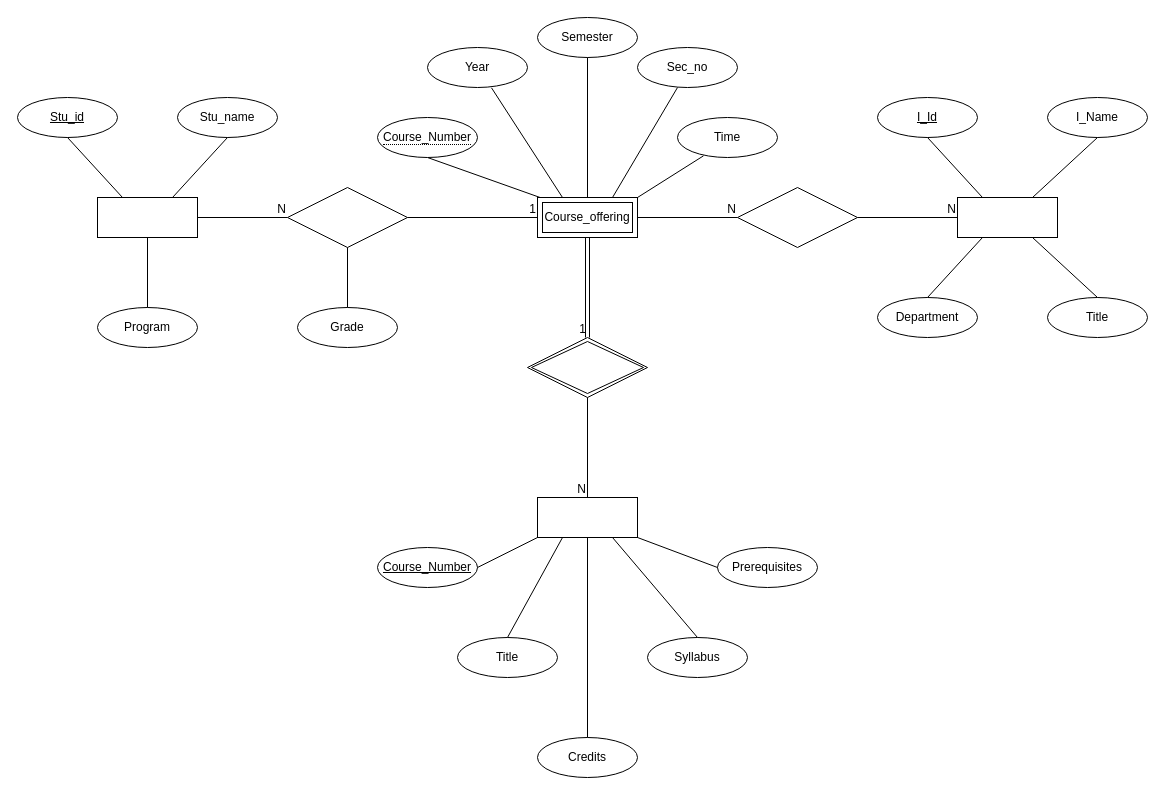
This 1165x795 diagram has some shape labels left out. The box of each missing label's shape, as (x1, y1, x2, y2) in pixels:
Course: (536, 496, 638, 538)
Enrolls: (286, 186, 408, 248)
Instructors: (956, 196, 1058, 238)
Offers: (526, 336, 648, 398)
Student: (96, 196, 198, 238)
Teaches: (736, 186, 858, 248)
